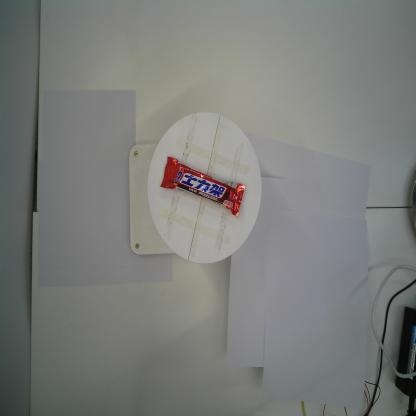Chocolate: (158, 154, 248, 222)
